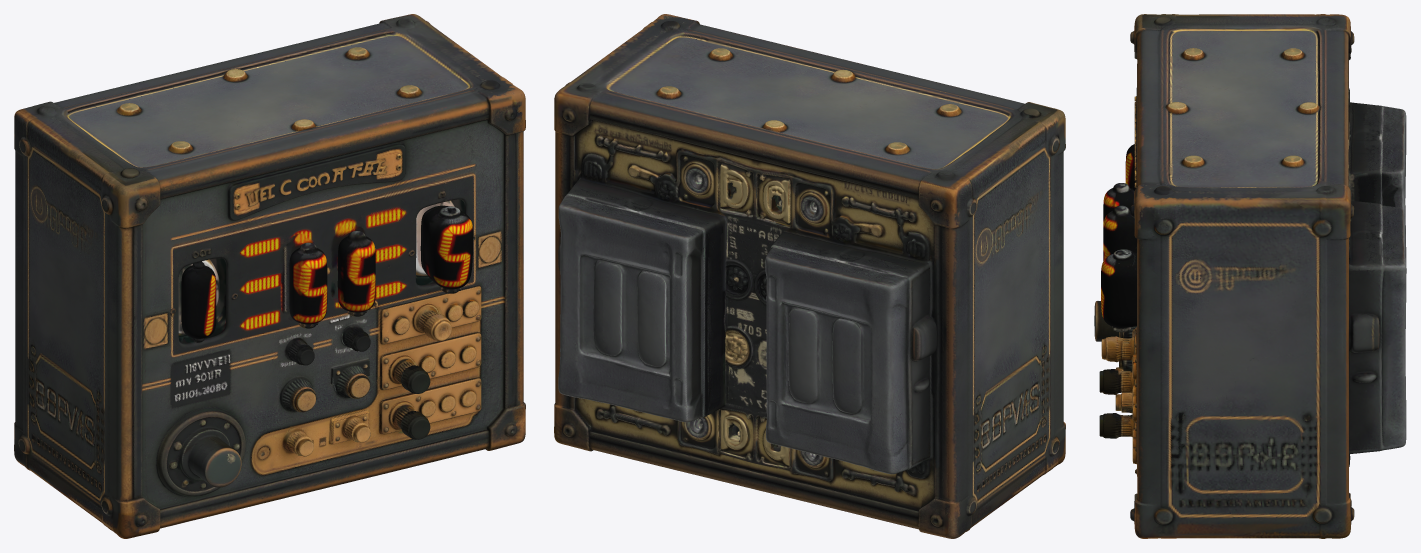
Rendered from life_counter_box.glb.
3 renders of one model, left to right at view 1: azimuth 30°, elevation 25°; view 2: azimuth 150°, elevation 25°; view 3: azimuth 270°, elevation 25°, orthographic. The views are drawn at different scales.
Size of the model in its own units: 1.9 by 1.59 by 1.3.
1 material, 1 textured.
